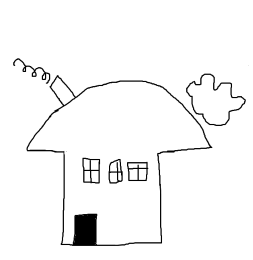closed_window: (80, 154, 101, 191), (125, 159, 150, 185), (105, 156, 124, 185)
clouds: (181, 65, 248, 129)
door: (70, 207, 105, 252)
single_line_roof: (15, 77, 215, 155)
smoking_chimney: (10, 49, 79, 109)
wall: (58, 143, 163, 251)
